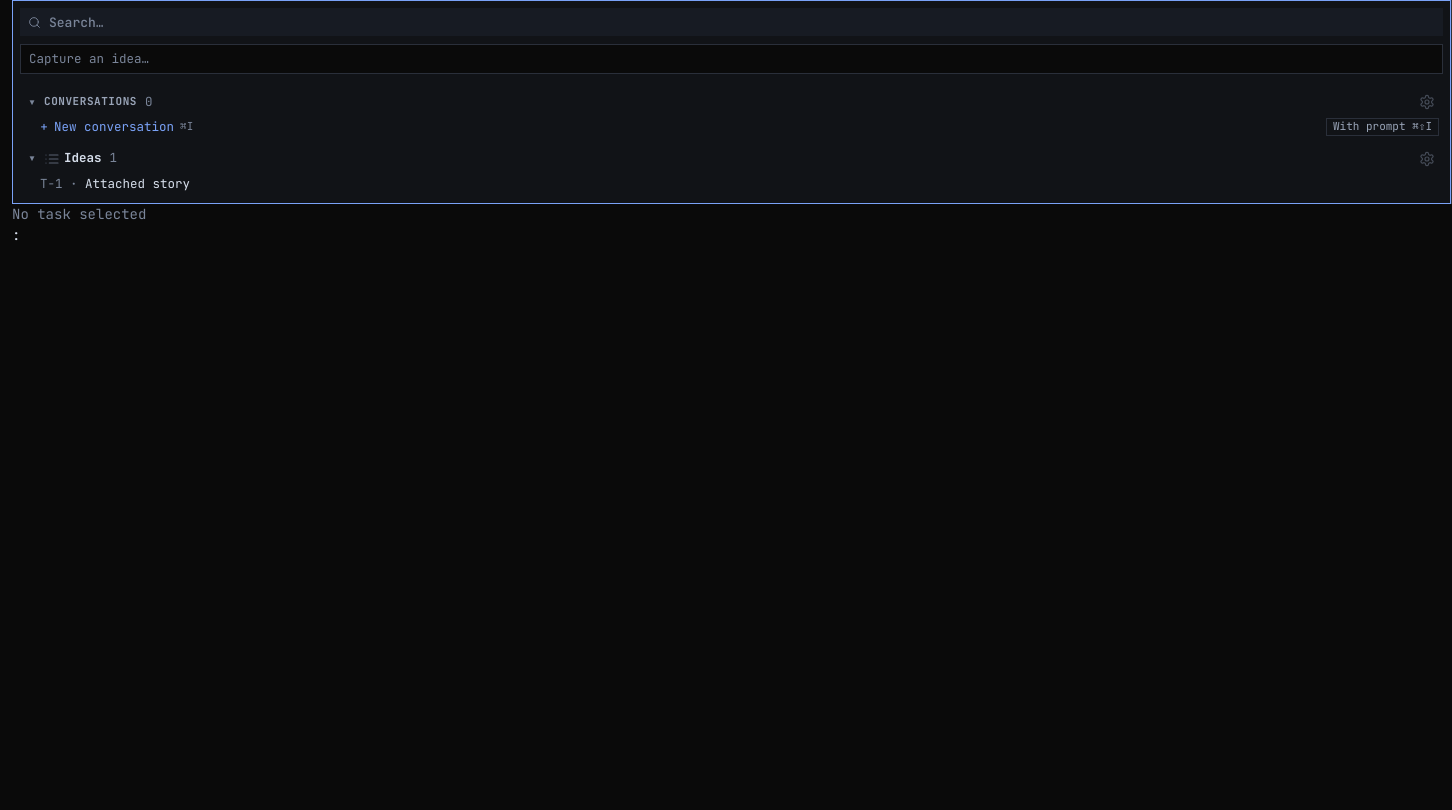
overhaul acceptance — Stories and details › keeps the attachment domain error contract on the Apollo read
The image size is (1452, 810).
Click the list item "T-1 · Attached story".
click(115, 183)  # box [40,175,190,192]
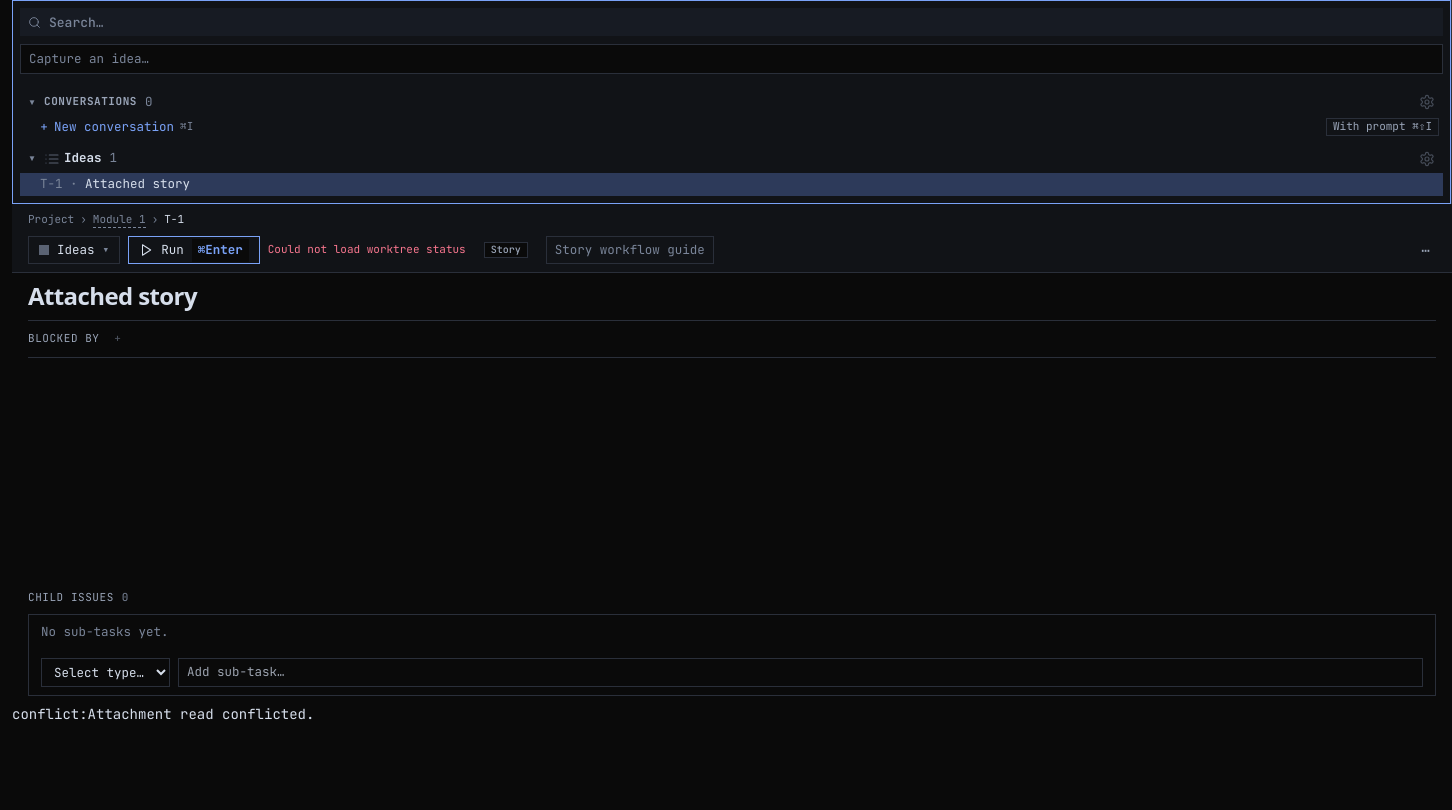
Now the text with test id "attachment-error" reads "conflict:Attachment read conflicted.", box [12,705,314,723]
